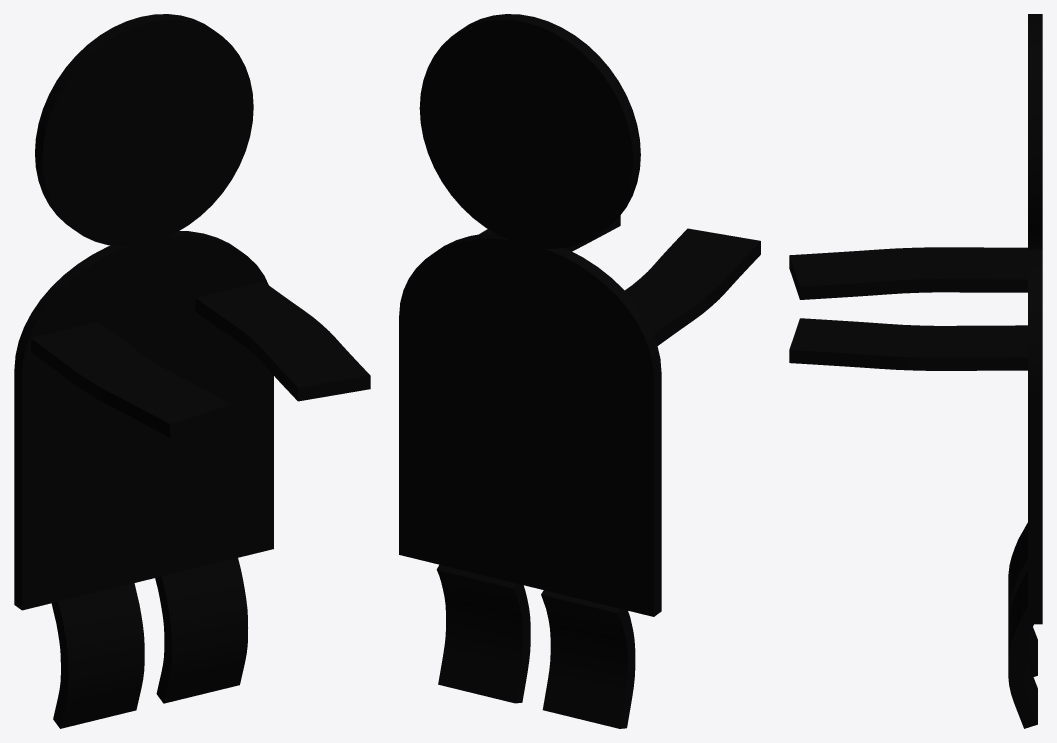
The model's file is guy.glb.
3 views of the same model, side by side, from view 1: azimuth 30°, elevation 25°; view 2: azimuth 150°, elevation 25°; view 3: azimuth 270°, elevation 25° (orthographic). The views are drawn at different scales.
Visible parts, largest first — view 1: Bendy; view 2: Bendy; view 3: Bendy.
Boxes of the visible parts, x1,y1,x2,y2 form: Bendy: (14,14,370,728); Bendy: (399,14,760,728); Bendy: (789,14,1042,728).
Bounding box in the file's own units: 0.5847 × 1.51 × 0.5254.
1 material, 1 textured.
